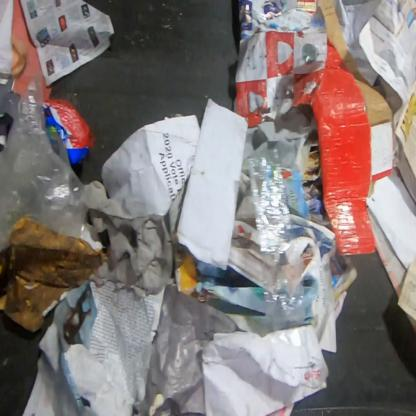cardboard: (312, 1, 394, 257), (0, 216, 109, 333)
soft_plastic: (0, 70, 85, 250), (138, 282, 240, 415), (247, 147, 306, 330)
